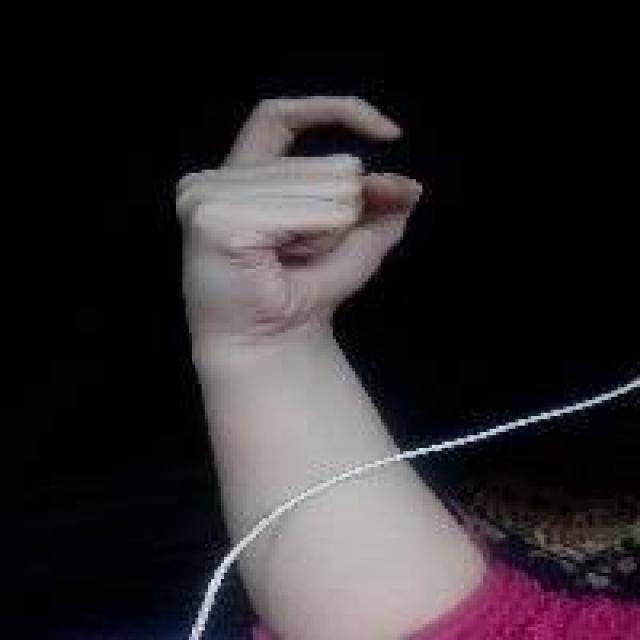X: (173, 96, 422, 358)
